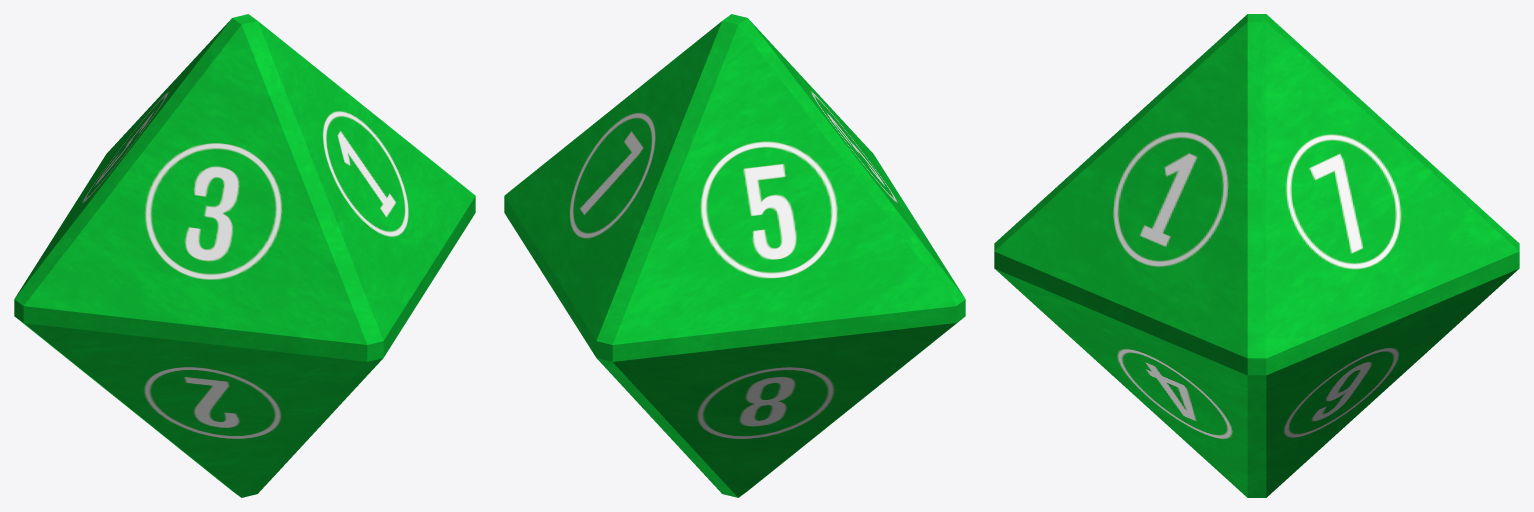
The model's file is dado_d8.obj.
3 renders of one model, left to right at view 1: azimuth 30°, elevation 25°; view 2: azimuth 150°, elevation 25°; view 3: azimuth 270°, elevation 25°, orthographic.
Visible parts, largest first — view 1: D8_pPlatonic1; view 2: D8_pPlatonic1; view 3: D8_pPlatonic1.
Boxes of the visible parts, x1,y1,x2,y2 form: D8_pPlatonic1: [14, 14, 475, 497]; D8_pPlatonic1: [504, 14, 965, 497]; D8_pPlatonic1: [994, 14, 1519, 497].
Size of the model in its own units: 12.43 by 12.43 by 12.43.
